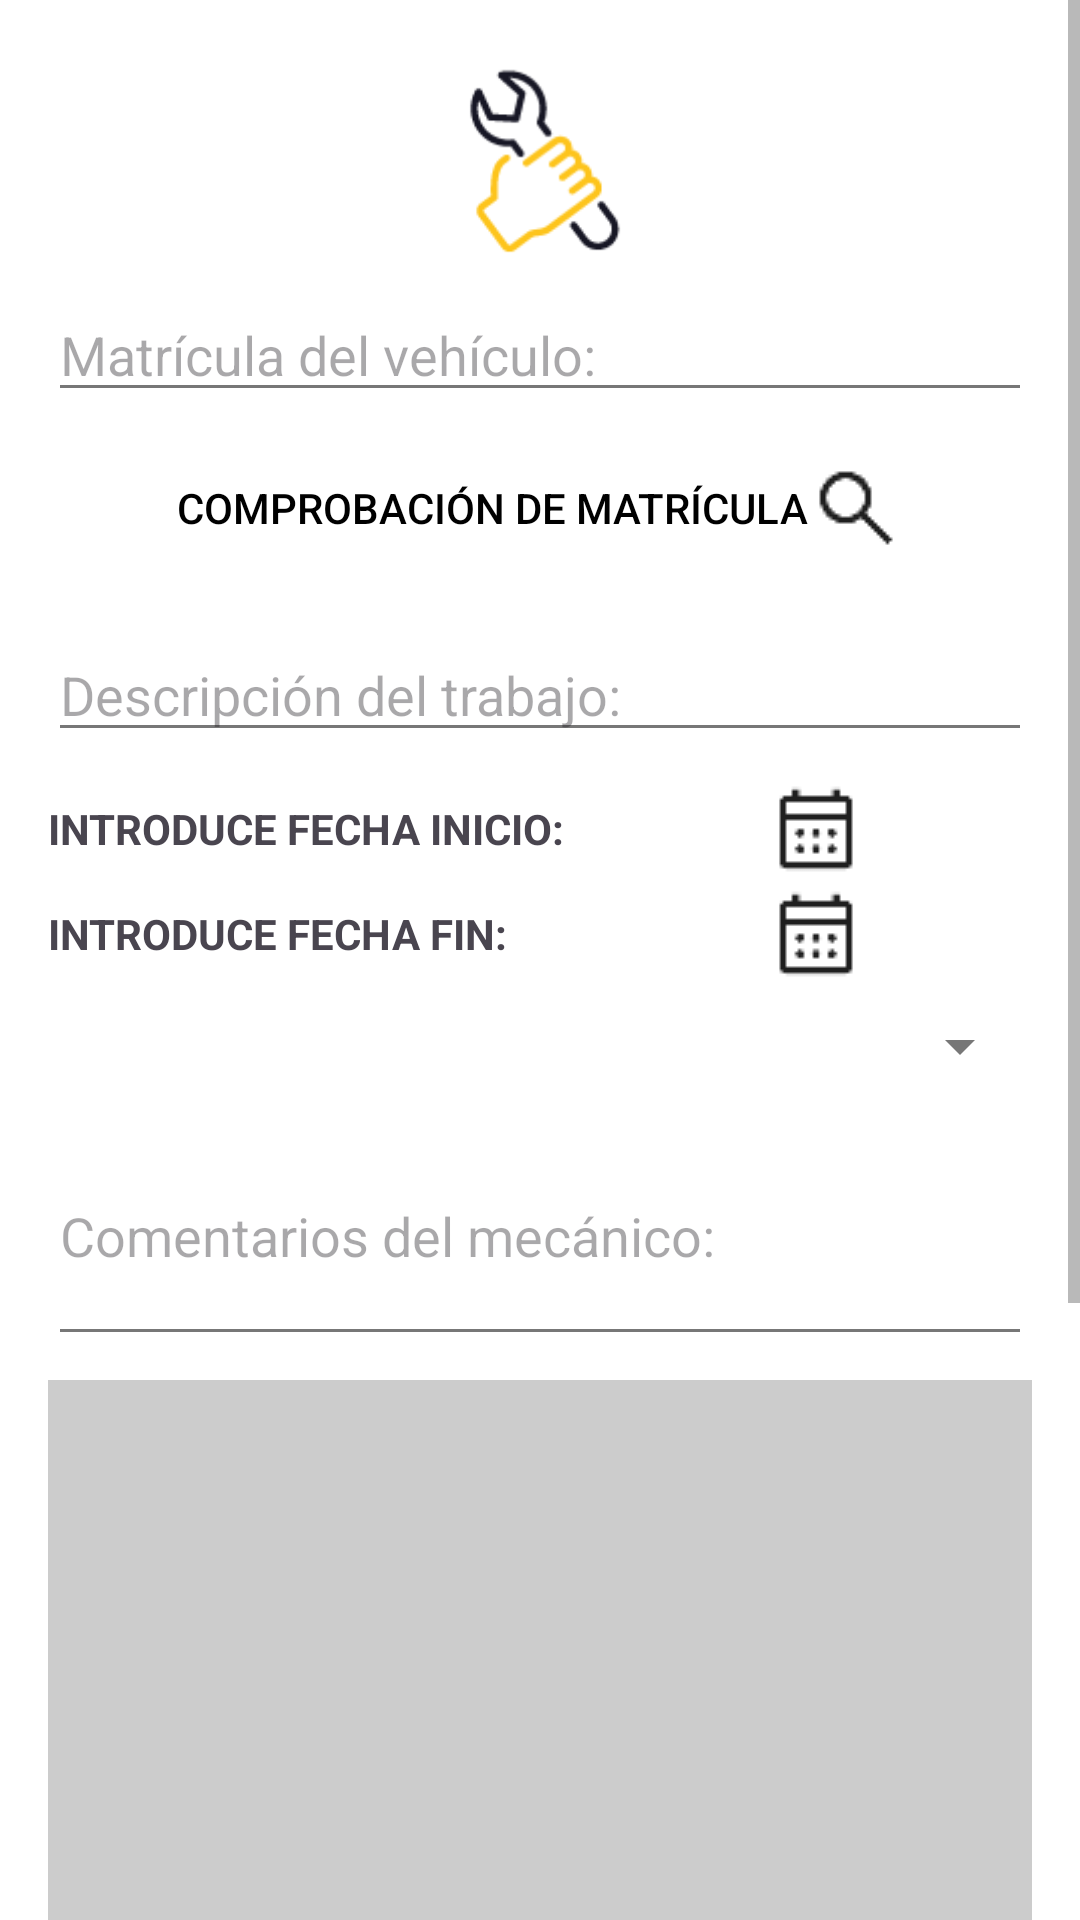

Icon bounding boxes for this 1080px x 1920px phone screenshot, format (x1, y1, x2, y2):
Icono reparacion: (470, 70, 620, 252)
